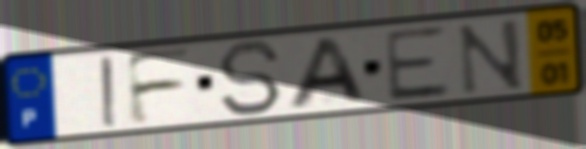A: (283, 34, 372, 112)
E: (381, 23, 454, 104)
F: (121, 45, 196, 128)
I: (97, 53, 122, 130)
N: (455, 16, 528, 98)
S: (214, 39, 284, 119)
